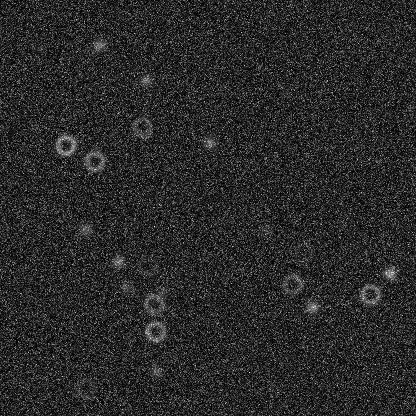Ring: (141, 291, 165, 315), (358, 282, 382, 306), (129, 114, 153, 138), (143, 319, 167, 343), (280, 272, 304, 296), (291, 239, 315, 263), (135, 254, 159, 278), (53, 133, 77, 157), (82, 149, 106, 173), (73, 376, 97, 400)
Spot: (77, 221, 93, 237), (91, 37, 107, 53), (304, 299, 320, 315), (31, 39, 47, 55), (201, 134, 217, 150), (147, 363, 163, 379), (118, 278, 134, 294), (154, 284, 170, 300), (137, 72, 153, 88), (381, 265, 397, 281), (110, 253, 126, 269), (257, 221, 273, 237)
